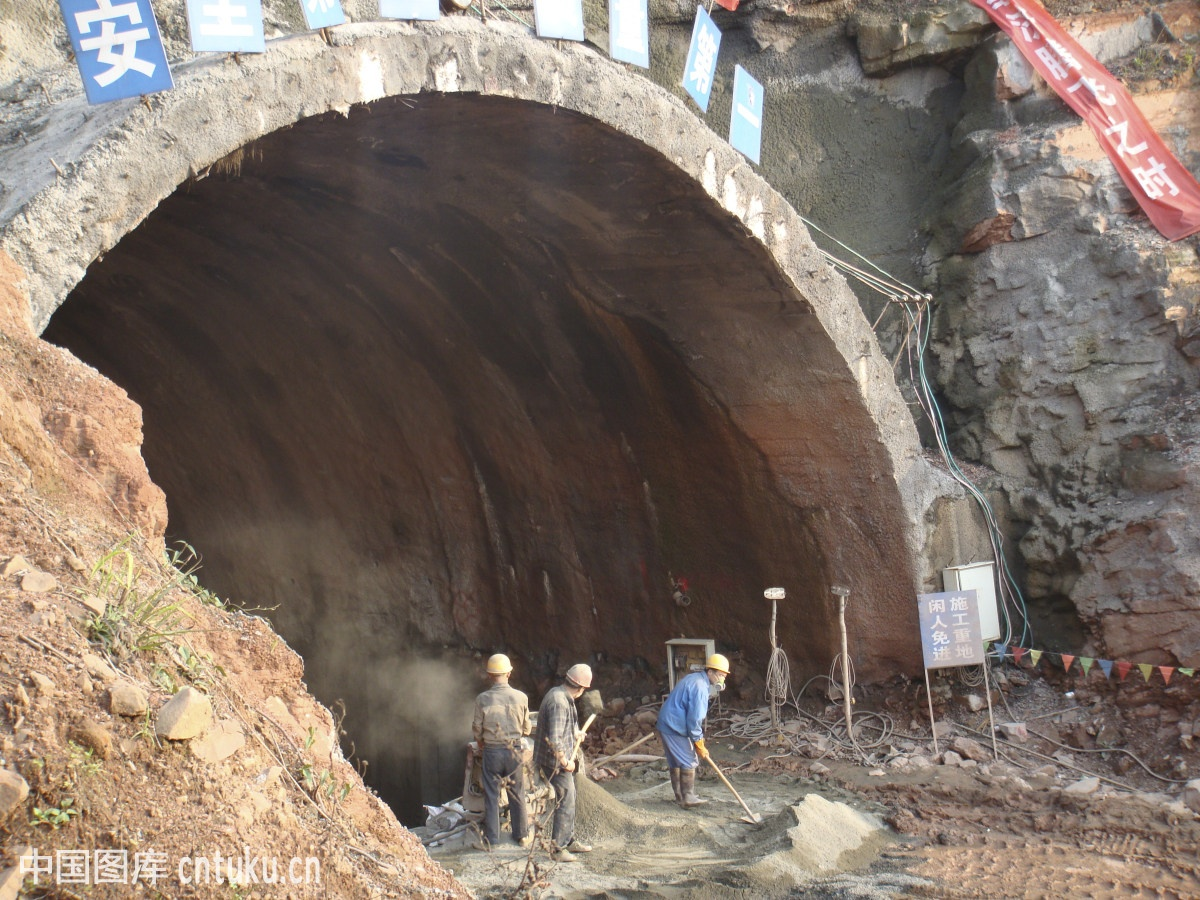red: (564, 664, 592, 697)
yellow: (704, 652, 731, 687), (486, 653, 511, 683)
